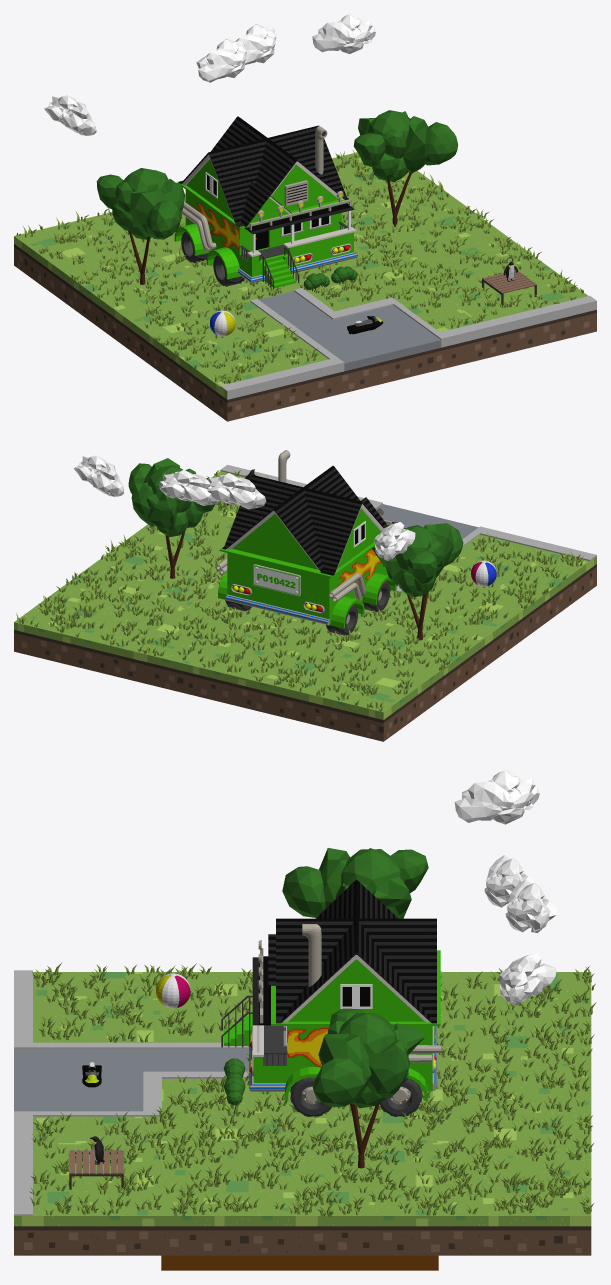
3 views of the same model, one above another, from view 1: azimuth 30°, elevation 25°; view 2: azimuth 150°, elevation 25°; view 3: azimuth 270°, elevation 25° (orthographic). The views are drawn at different scales.
Parts seen in each view (by area): view 1: Cube.006, Cube.1474, Circle.012_Grass_0.192, Cube.007, tree, tree.001, Cube.009, OBJRANDOM_BEACHBALL; view 2: Cube.006, Cube.1474, Circle.012_Grass_0.192, Cube.007, tree.001, tree, OBJRANDOM_BEACHBALL; view 3: Cube.006, Circle.012_Grass_0.192, Cube.1474, tree, Cube.007, tree.001, UNDERGROUND_ART_PIECE_VAN_GOGH, Cube.009, OBJRANDOM_BEACHBALL.
Part boxes in pixels (x1,y1,x2,y2): Cube.006: (14,152,596,421); Cube.1474: (174,116,357,289); Circle.012_Grass_0.192: (16,150,583,383); Cube.007: (44,14,375,135); tree: (353,110,457,226); tree.001: (96,168,184,284); Cube.009: (482,270,536,304); OBJRANDOM_BEACHBALL: (210,310,235,336); Cube.006: (14,465,596,741); Cube.1474: (216,450,396,635); Circle.012_Grass_0.192: (16,470,583,711); Cube.007: (74,455,415,560); tree.001: (372,523,463,640); tree: (128,458,215,578); OBJRANDOM_BEACHBALL: (471,560,496,586); Cube.006: (14,970,591,1255); Circle.012_Grass_0.192: (29,962,596,1217); Cube.1474: (221,880,441,1116); tree: (312,1008,425,1168); Cube.007: (454,770,556,1005); tree.001: (282,848,428,918); UNDERGROUND_ART_PIECE_VAN_GOGH: (161,1255,438,1270); Cube.009: (69,1149,123,1189); OBJRANDOM_BEACHBALL: (156,973,190,1008).
Bounding box in the file's own units: 4071 × 2301 × 4040.
Materials: 34 (5 with a texture image).
